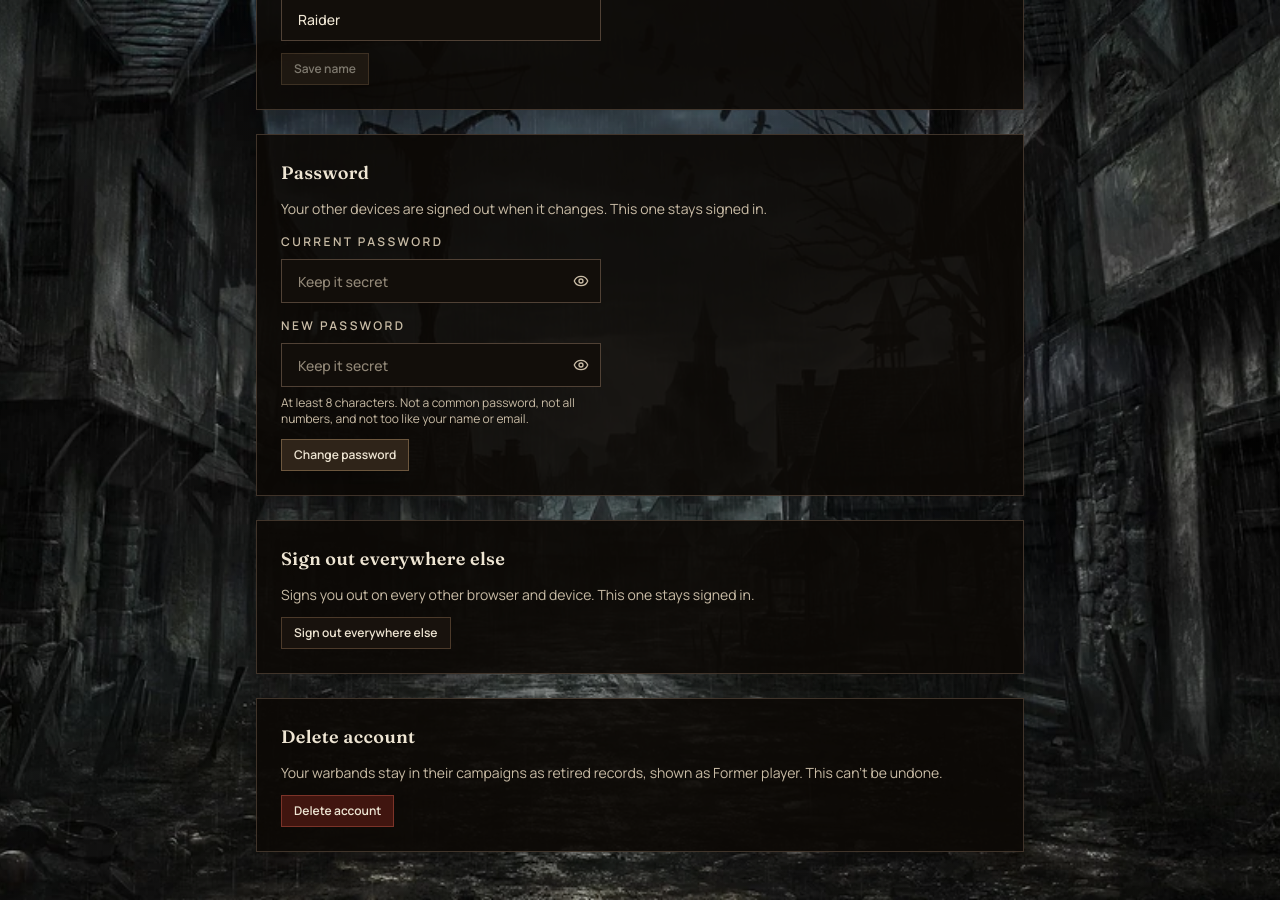
it: deleting your account (AUTH-NEW-05) › reads the preview as the dialog opens and says what happens to each campaign
The image size is (1280, 900).
(page scrolled)
Click the button "Delete account" at (338, 811), box [281,795,394,827]
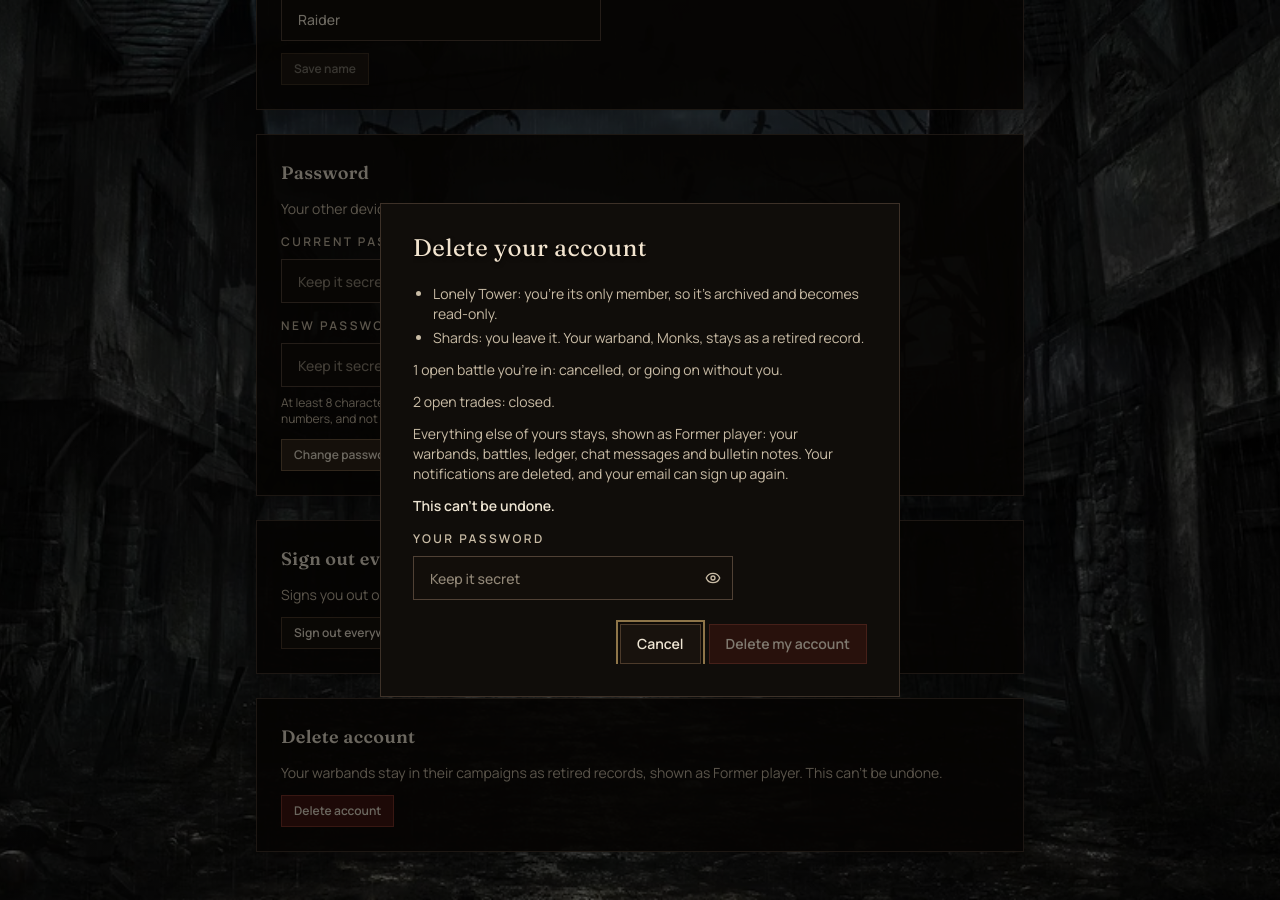
Now the list item "Lonely Tower: you're its only member, so it's archived and becomes read-only." is shown, box [433,284,867,324]
Now the list item "Shards: you leave it. Your warband, Monks, stays as a retired record." is shown, box [433,328,867,348]
Now the text "1 open battle you're in: cancelled, or going on without you." is shown, box [413,360,783,379]
